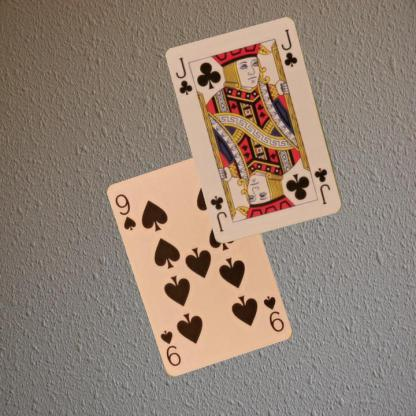9s: (261, 293, 286, 334), (113, 192, 138, 232)
Jc: (311, 165, 332, 207), (173, 55, 194, 96)
